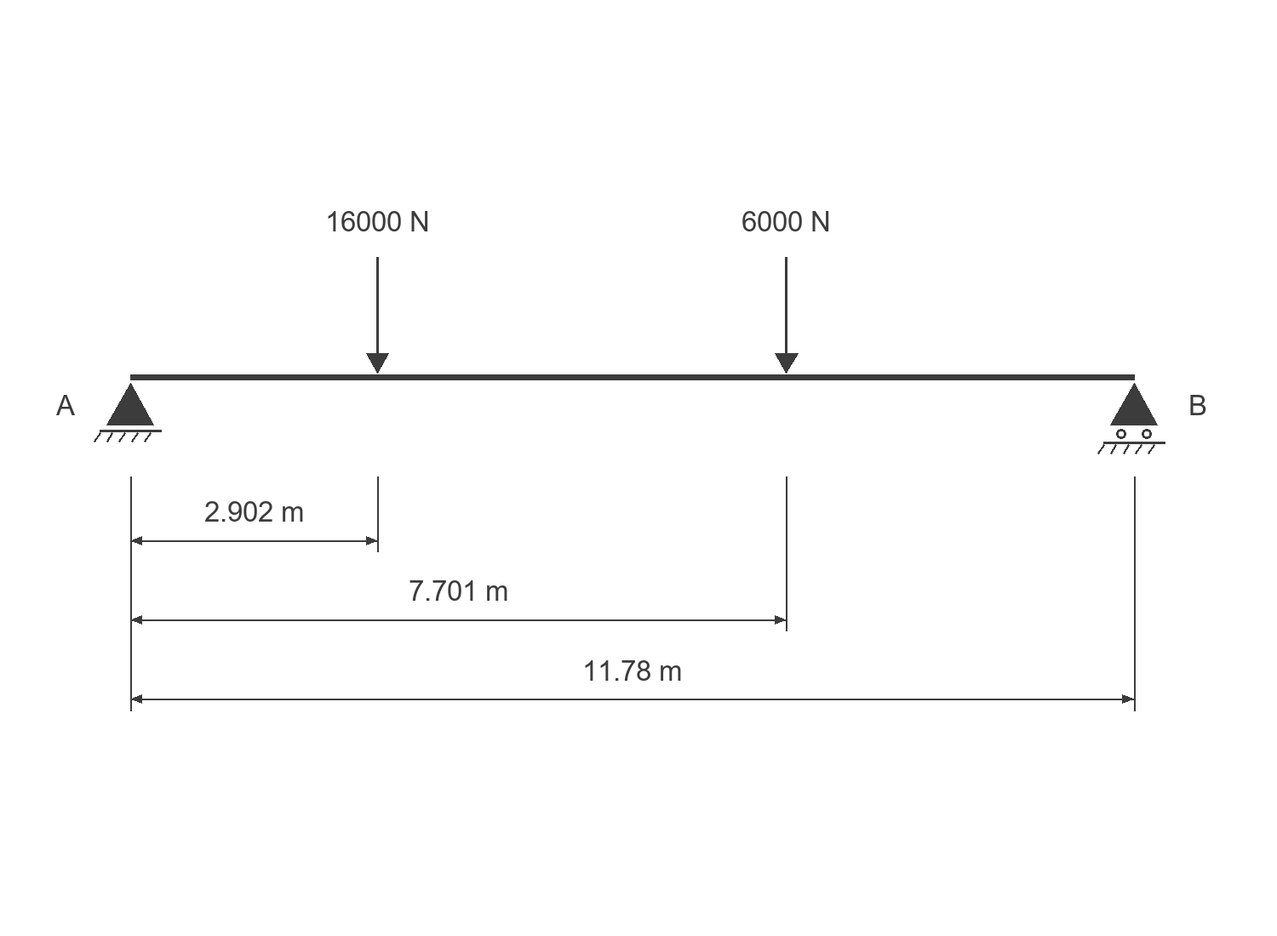pin_support: (94, 383, 162, 442)
point_load: (775, 257, 799, 374), (366, 257, 389, 374)
roller_support: (1097, 383, 1165, 454)
